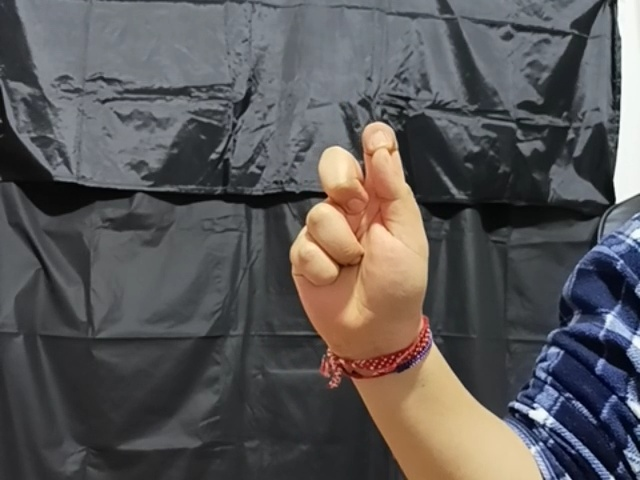T: (291, 122, 443, 346)
